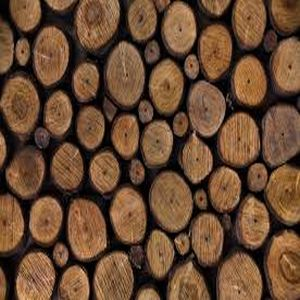log: (149, 170, 193, 234), (103, 42, 145, 109), (1, 72, 40, 142), (66, 198, 110, 260), (261, 230, 299, 300), (260, 101, 300, 166), (74, 1, 123, 54), (216, 112, 261, 168), (215, 250, 264, 300), (31, 26, 71, 87), (109, 185, 149, 246), (186, 80, 226, 139), (197, 20, 234, 82), (5, 147, 49, 199), (264, 162, 300, 224), (230, 52, 269, 109), (146, 57, 184, 115), (160, 1, 198, 56), (235, 192, 271, 250), (14, 252, 56, 300), (95, 251, 136, 300), (49, 143, 86, 195), (270, 34, 300, 98), (178, 134, 214, 187), (190, 213, 224, 269), (28, 194, 64, 246), (165, 260, 208, 300), (43, 88, 74, 142), (232, 2, 266, 51), (73, 104, 106, 153), (141, 120, 174, 169), (86, 151, 121, 195), (145, 229, 174, 281), (110, 112, 140, 162), (69, 60, 103, 104), (208, 166, 241, 211), (2, 195, 26, 256), (57, 264, 94, 300), (126, 1, 157, 43), (9, 1, 41, 32), (246, 162, 269, 194), (127, 159, 147, 189), (128, 241, 145, 272), (182, 52, 200, 80), (136, 99, 156, 124), (33, 125, 51, 152), (14, 38, 31, 66), (52, 243, 70, 268), (174, 232, 191, 258), (263, 28, 280, 53), (173, 112, 189, 138), (143, 41, 160, 65), (194, 188, 209, 214)
